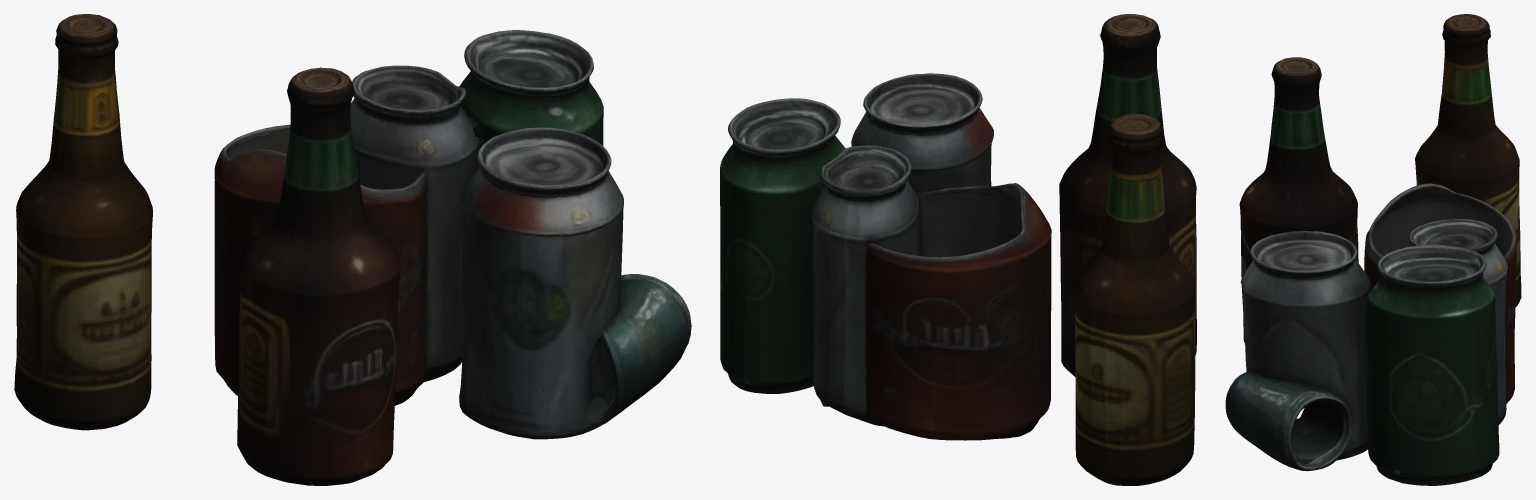
Rendered from bottles_cans_filth.glb.
The picture shows the model from 3 angles, left to right: view 1: azimuth 30°, elevation 25°; view 2: azimuth 150°, elevation 25°; view 3: azimuth 270°, elevation 25°; orthographic projection. The views are drawn at different scales.
Visible parts, largest first — view 1: geometry_0; view 2: geometry_0; view 3: geometry_0.
Boxes of the visible parts, bbox=[...] form: geometry_0: bbox=[14, 14, 691, 485]; geometry_0: bbox=[720, 14, 1196, 485]; geometry_0: bbox=[1225, 14, 1521, 485].
Size of the model in its own units: 0.999 by 0.7071 by 0.6362.
Materials: 1 (1 with a texture image).
